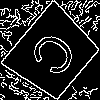C: (27, 28, 87, 86)
